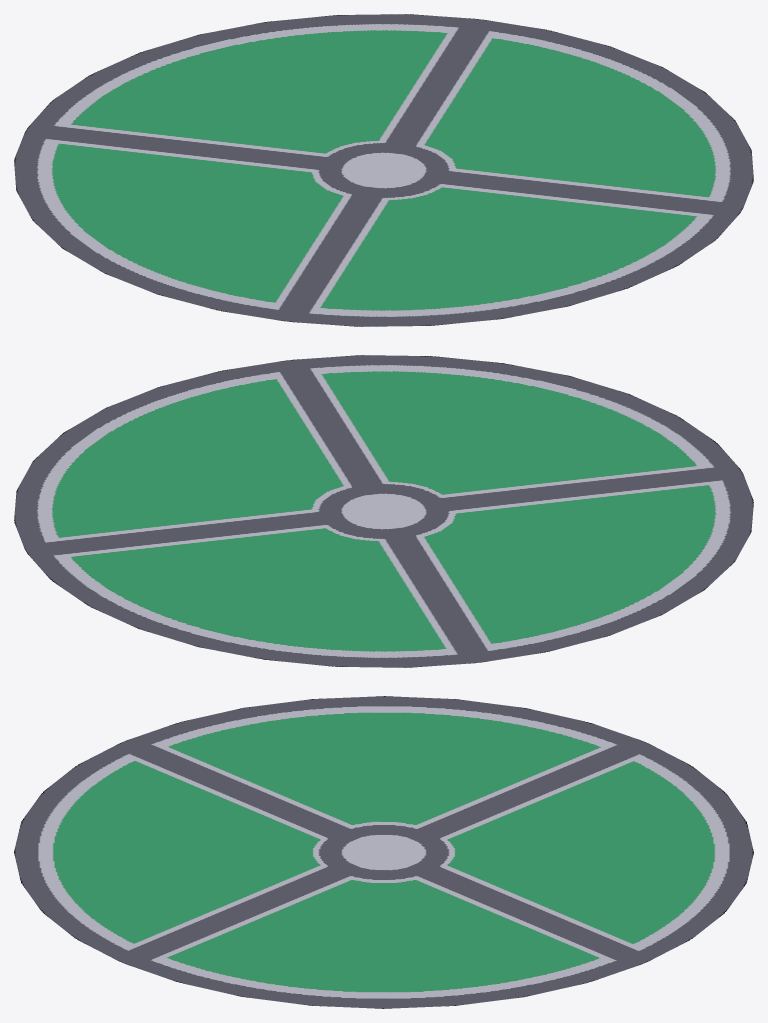
The model's file is floorobj.obj.
The picture shows the model from 3 angles, top to bottom: view 1: azimuth 30°, elevation 25°; view 2: azimuth 150°, elevation 25°; view 3: azimuth 270°, elevation 25°; orthographic projection.
Parts seen in each view (by area): view 1: Circle; view 2: Circle; view 3: Circle.
Part boxes in pixels (x1,y1,x2,y2): Circle: (14,14,753,326); Circle: (14,355,753,667); Circle: (14,696,753,1008).
Bounding box in the file's own units: 400 × 0 × 400.
Materials: 1 (1 with a texture image).
